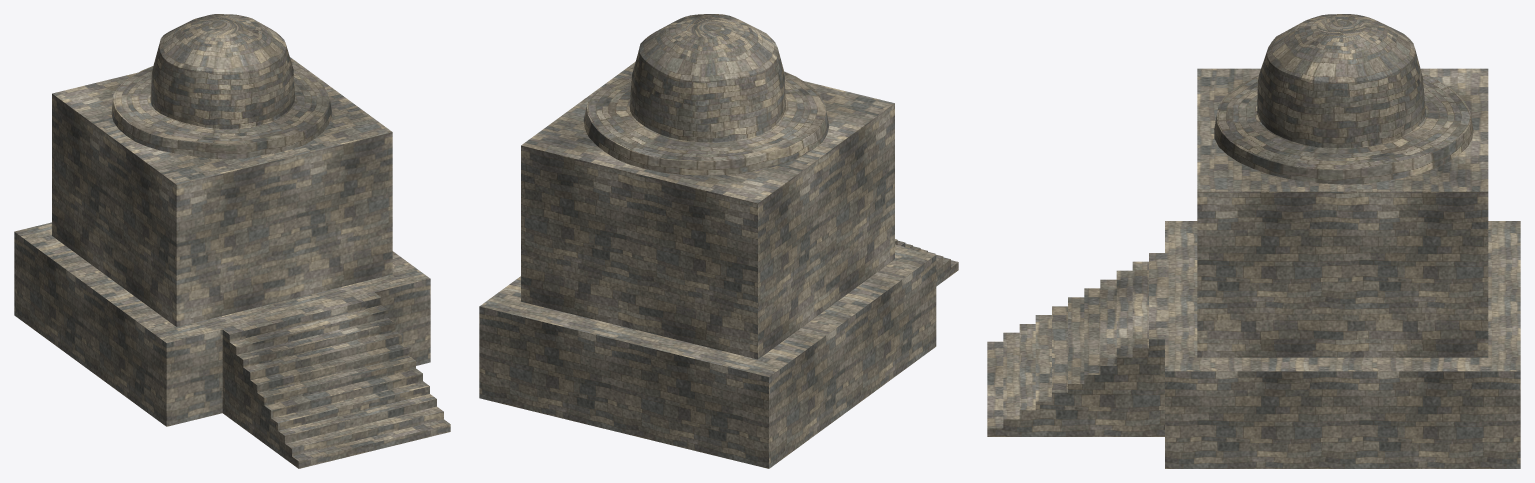
File: gumbat-balo-kale-stupa.glb
The picture shows the model from 3 angles, left to right: view 1: azimuth 30°, elevation 25°; view 2: azimuth 150°, elevation 25°; view 3: azimuth 270°, elevation 25°; orthographic projection. The views are drawn at different scales.
Parts seen in each view (by area): view 1: gumbat-balo-kale-stupa_blocks, gumbat-balo-kale-stupa_lathe; view 2: gumbat-balo-kale-stupa_blocks, gumbat-balo-kale-stupa_lathe; view 3: gumbat-balo-kale-stupa_blocks, gumbat-balo-kale-stupa_lathe.
Boxes of the visible parts, x1,y1,x2,y2 form: gumbat-balo-kale-stupa_blocks: [14, 57, 450, 468]; gumbat-balo-kale-stupa_lathe: [111, 14, 331, 159]; gumbat-balo-kale-stupa_blocks: [479, 62, 958, 468]; gumbat-balo-kale-stupa_lathe: [583, 14, 829, 175]; gumbat-balo-kale-stupa_blocks: [987, 68, 1520, 468]; gumbat-balo-kale-stupa_lathe: [1214, 14, 1473, 184].
Bounding box in the file's own units: 6.6 × 7.56 × 9.9.
2 materials, 2 textured.
